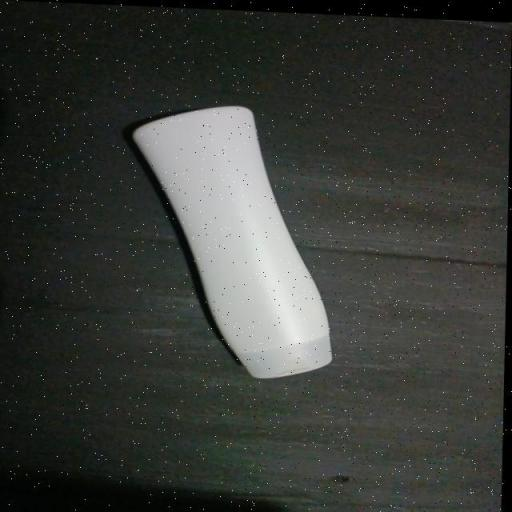plastic: (97, 73, 384, 400)
